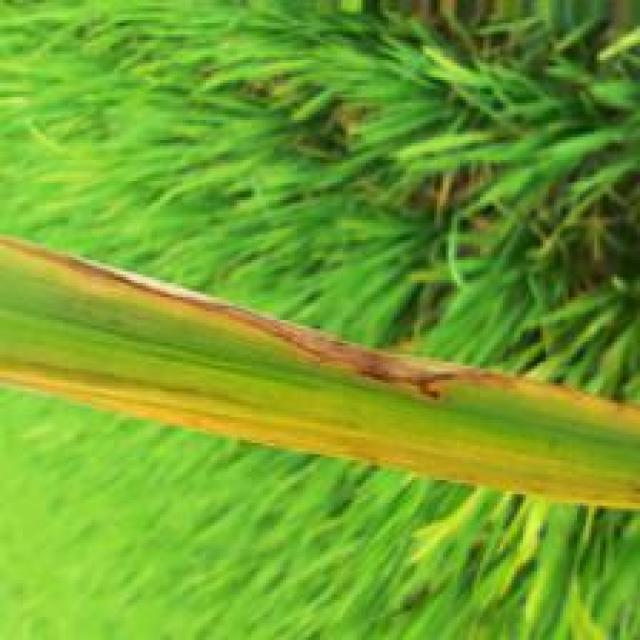Leaf_Blast: (28, 247, 561, 409)
